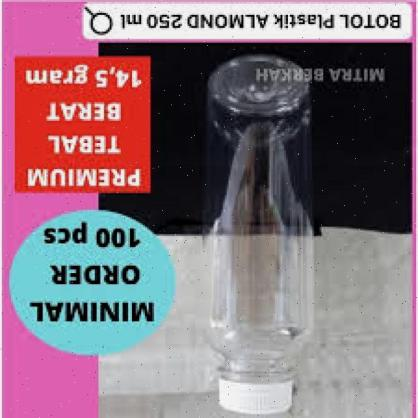bottle: (187, 53, 330, 418)
cap: (210, 374, 296, 414)
